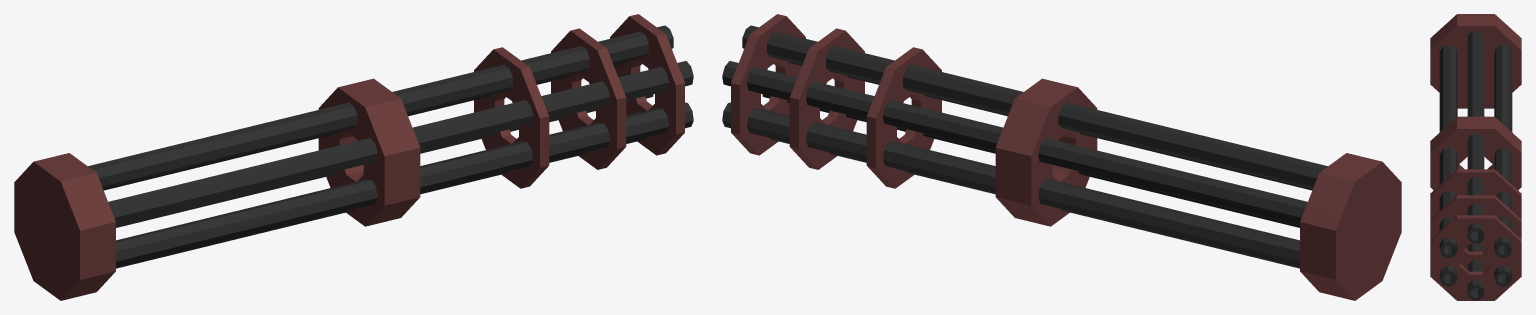
The model's file is LMG1_06_2.fbx.
3 views of the same model, side by side, from view 1: azimuth 30°, elevation 25°; view 2: azimuth 150°, elevation 25°; view 3: azimuth 270°, elevation 25° (orthographic). The views are drawn at different scales.
Parts seen in each view (by area): view 1: LMG1_06_2; view 2: LMG1_06_2; view 3: LMG1_06_2.
Part boxes in pixels (x1=…): LMG1_06_2: x1=14, y1=14, x2=693, y2=300; LMG1_06_2: x1=722, y1=14, x2=1401, y2=300; LMG1_06_2: x1=1430, y1=14, x2=1521, y2=300.
Size of the model in its own units: 0.8235 by 0.1514 by 0.1514.
